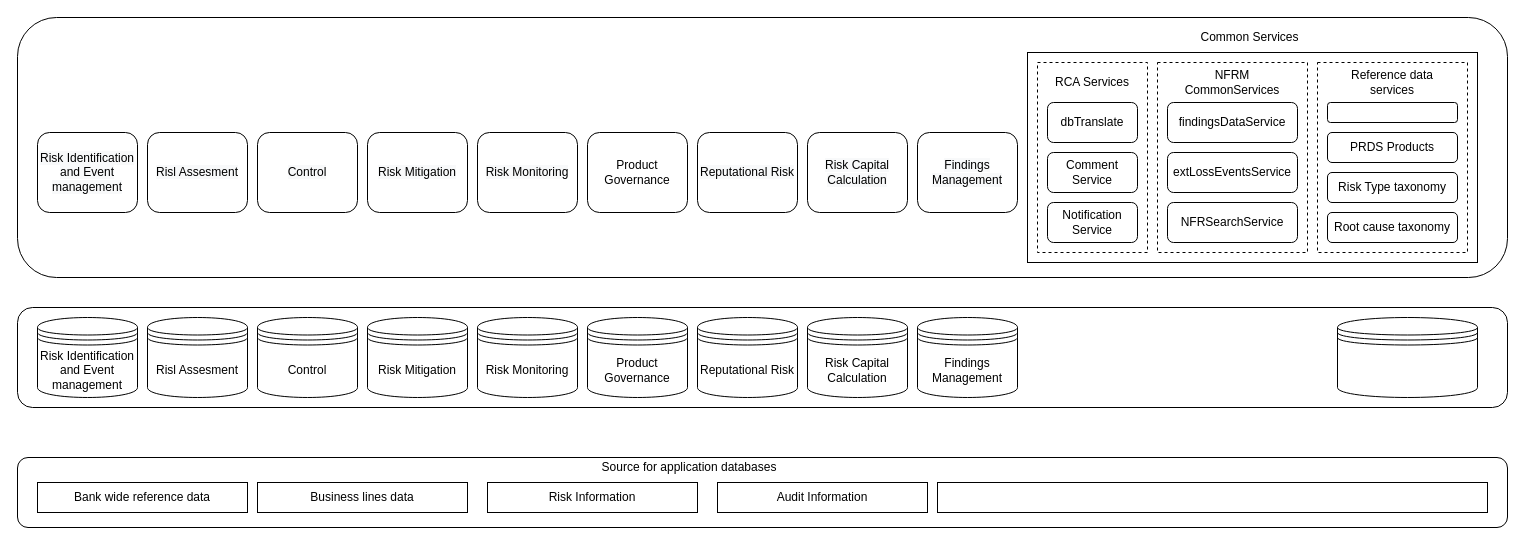
The diagram is 1525 pixels wide and 545 high, and some of its shapes have lost their labels. Each missing label, with the box of its shape:
External Sources: (936, 482, 1488, 512)
Legacy databases: (1336, 316, 1478, 398)
UBR info: (1326, 102, 1458, 122)
